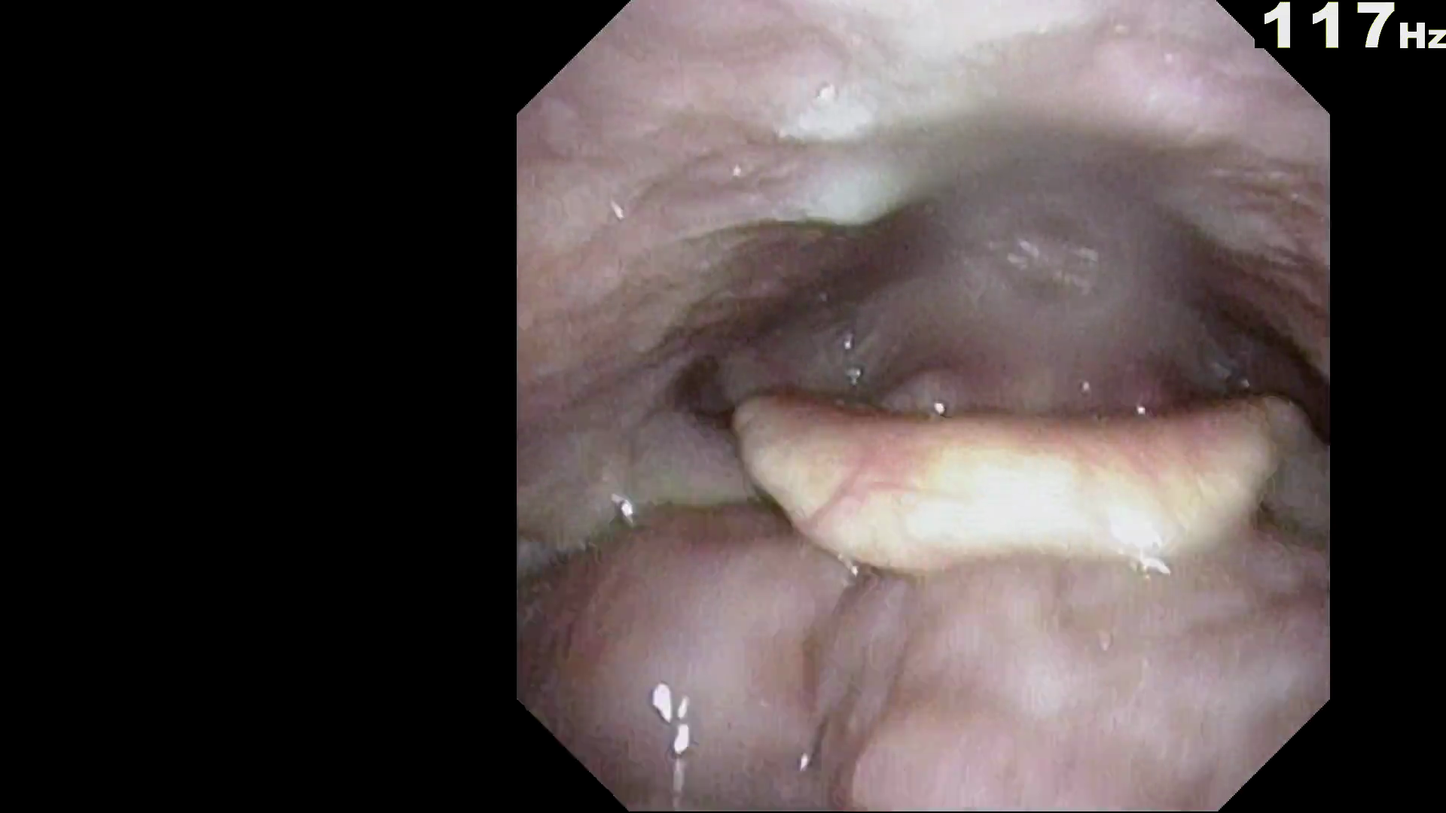epiglottis: (701, 407, 1287, 653)
